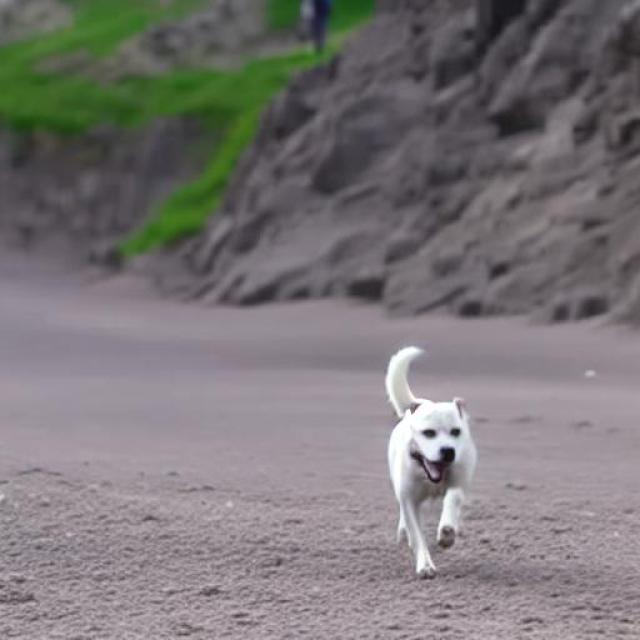Dog: (384, 345, 478, 577)
